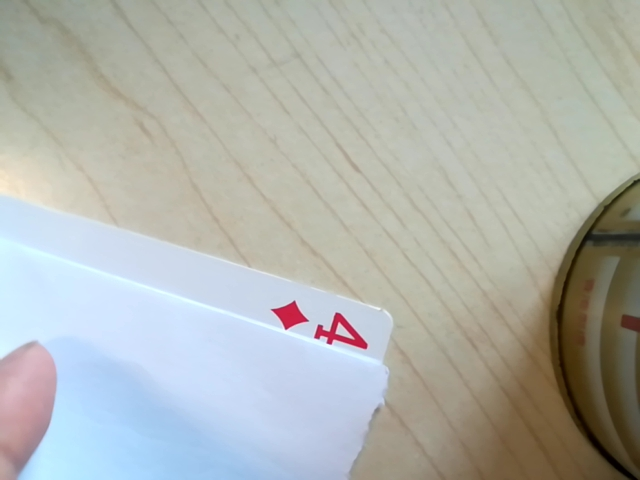fk 4: (263, 297, 384, 356)
